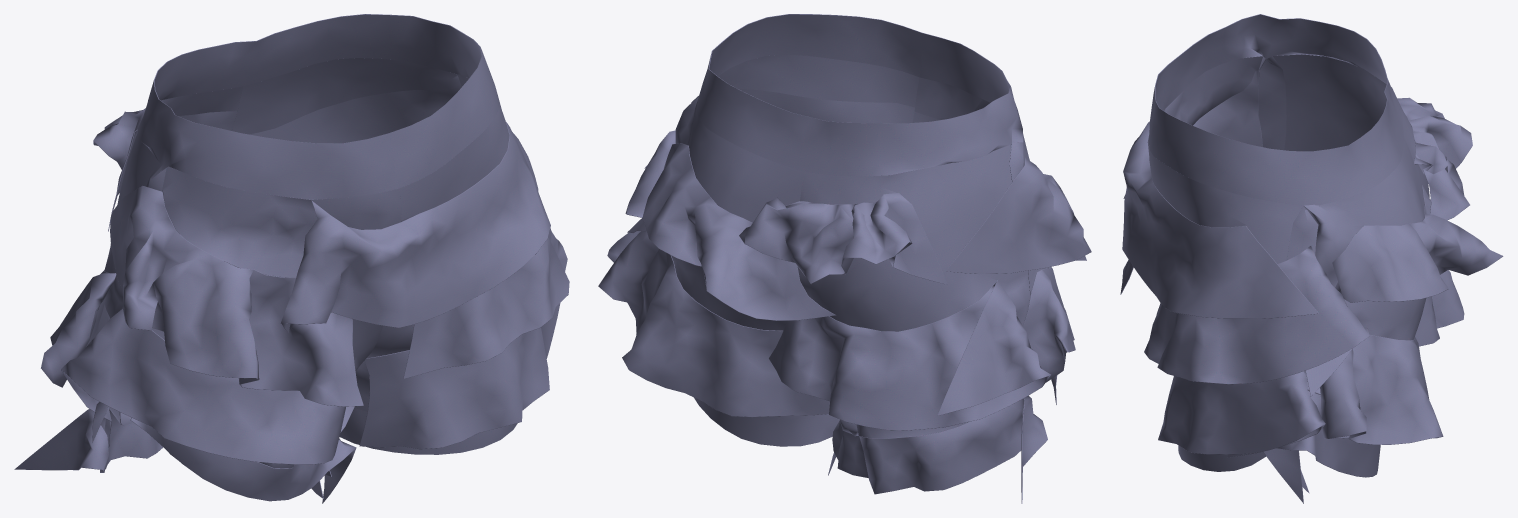
3 views of the same model, side by side, from view 1: azimuth 30°, elevation 25°; view 2: azimuth 150°, elevation 25°; view 3: azimuth 270°, elevation 25° (orthographic). The views are drawn at different scales.
Visible parts, largest first — view 1: Pattern2D_523325, Pattern2D_3805022, Pattern2D_3805023, Pattern2D_1055682, Pattern2D_3805025, Pattern2D_1027841, Pattern2D_3805019, Pattern2D_3805021, Pattern2D_3805020, Pattern2D_3805024, Pattern2D_3805030, Pattern2D_1028449 (+2 smaller); view 2: Pattern2D_523325, Pattern2D_3805031, Pattern2D_1028449, Pattern2D_3805028, Pattern2D_3805026, Pattern2D_3805029, Pattern2D_3805030, Pattern2D_3805020, Pattern2D_3805022, Pattern2D_3805019, Pattern2D_1055682, Pattern2D_3805027 (+2 smaller); view 3: Pattern2D_523325, Pattern2D_3805023, Pattern2D_3805021, Pattern2D_1028449, Pattern2D_3805025, Pattern2D_3805028, Pattern2D_3805026, Pattern2D_3805019, Pattern2D_3805020, Pattern2D_1027841, Pattern2D_3805029, Pattern2D_3805027 (+1 smaller).
Part boxes in pixels (x1,y1,x2,y2): Pattern2D_523325: [137, 14, 499, 199]; Pattern2D_3805022: [110, 186, 363, 406]; Pattern2D_3805023: [280, 122, 550, 332]; Pattern2D_1055682: [60, 308, 354, 464]; Pattern2D_3805025: [359, 232, 567, 449]; Pattern2D_1027841: [146, 165, 401, 468]; Pattern2D_3805019: [232, 58, 461, 143]; Pattern2D_3805021: [403, 228, 569, 378]; Pattern2D_3805020: [339, 74, 517, 454]; Pattern2D_3805024: [92, 401, 356, 503]; Pattern2D_3805030: [14, 409, 323, 498]; Pattern2D_1028449: [103, 86, 243, 425]; Pattern2D_523325: [696, 14, 1023, 176]; Pattern2D_3805031: [769, 280, 1050, 430]; Pattern2D_1028449: [797, 144, 1030, 438]; Pattern2D_3805028: [598, 231, 829, 417]; Pattern2D_3805026: [642, 143, 835, 320]; Pattern2D_3805029: [739, 193, 947, 284]; Pattern2D_3805030: [832, 396, 1047, 503]; Pattern2D_3805020: [718, 54, 919, 123]; Pattern2D_3805022: [945, 158, 1091, 273]; Pattern2D_3805019: [671, 96, 804, 330]; Pattern2D_1055682: [1023, 268, 1075, 382]; Pattern2D_3805027: [694, 397, 839, 446]; Pattern2D_523325: [1149, 14, 1403, 205]; Pattern2D_3805023: [1122, 121, 1318, 318]; Pattern2D_3805021: [1144, 245, 1369, 396]; Pattern2D_1028449: [1258, 54, 1429, 197]; Pattern2D_3805025: [1158, 371, 1325, 457]; Pattern2D_3805028: [1320, 334, 1443, 444]; Pattern2D_3805026: [1332, 185, 1503, 302]; Pattern2D_3805019: [1287, 138, 1426, 394]; Pattern2D_3805020: [1149, 145, 1319, 471]; Pattern2D_1027841: [1147, 55, 1265, 155]; Pattern2D_3805029: [1397, 97, 1472, 220]; Pattern2D_3805027: [1263, 391, 1380, 503].
Bounding box in the file's own units: 50.82 × 43.13 × 36.97.
